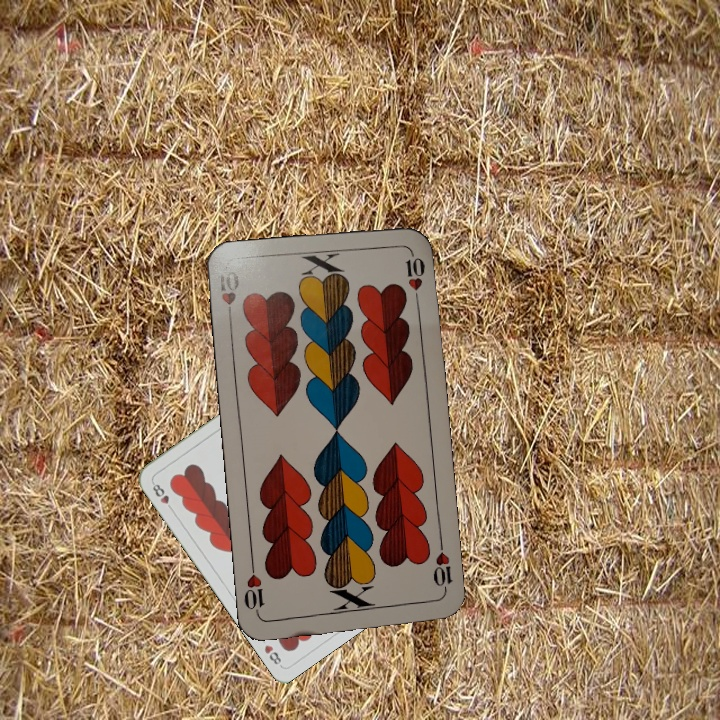H10: (214, 267, 242, 326), (429, 538, 455, 598)
H8: (148, 478, 176, 514)
